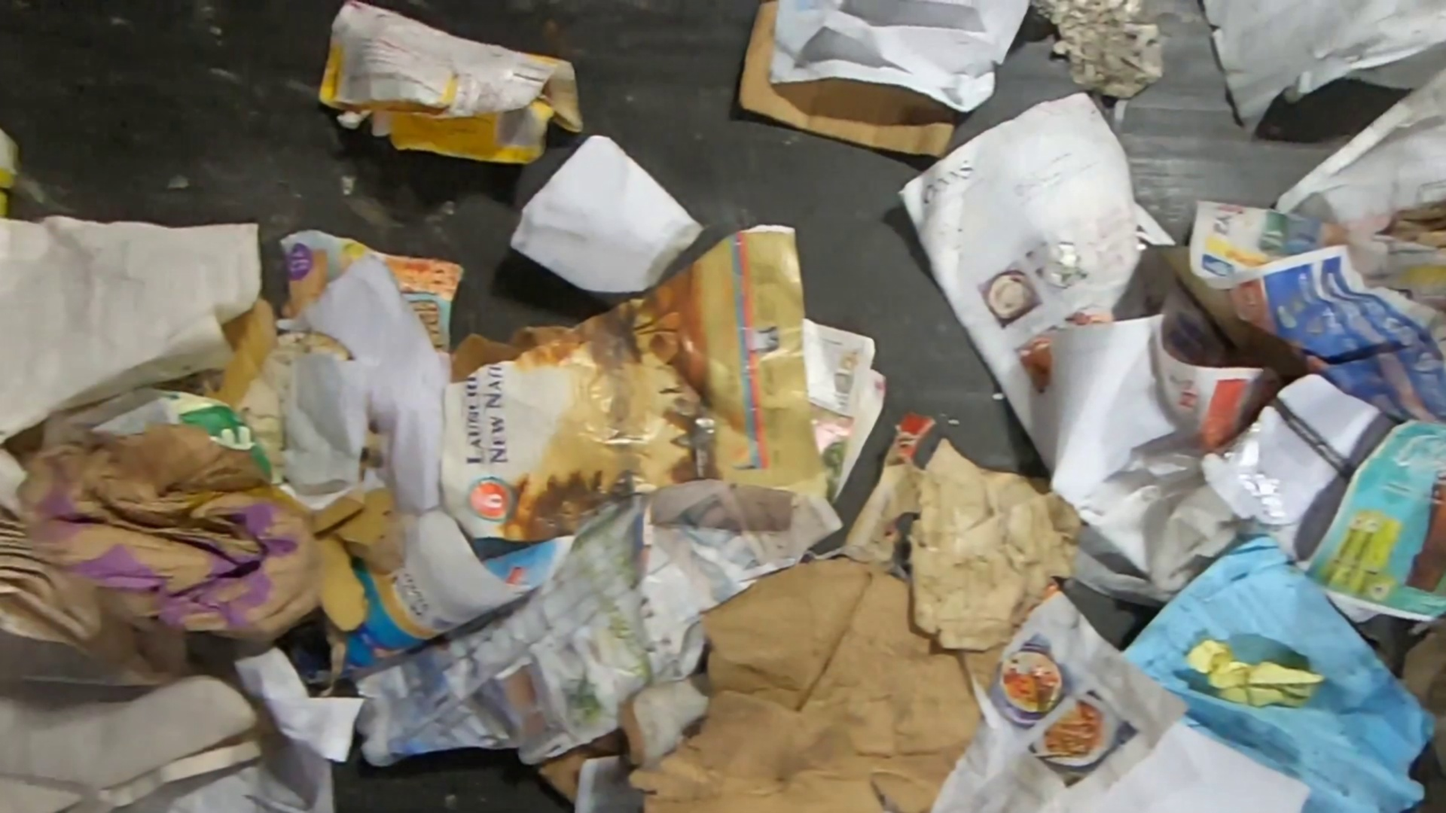cardboard: (530, 554, 1008, 813), (804, 407, 1087, 648), (318, 0, 583, 164), (153, 294, 353, 486), (739, 0, 958, 158), (230, 484, 404, 635), (153, 386, 271, 486), (451, 324, 571, 383)
